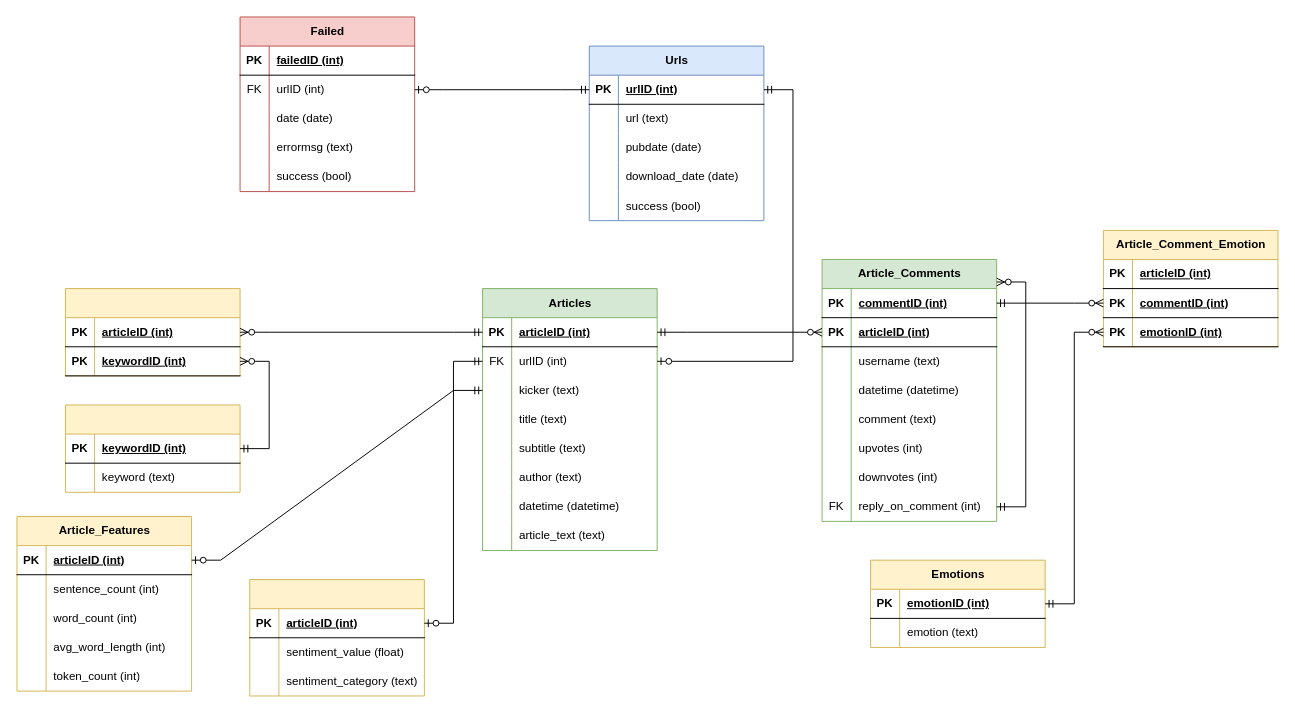
The diagram is 1295 pixels wide and 713 high, and some of its shapes have lost their labels. Here are the shapes that lost their labels. From the top down, the box of each, then its label:
(65, 288, 240, 376): Article_Keywords
(65, 404, 240, 492): Keywords
(249, 579, 424, 696): Article_Sentiment
